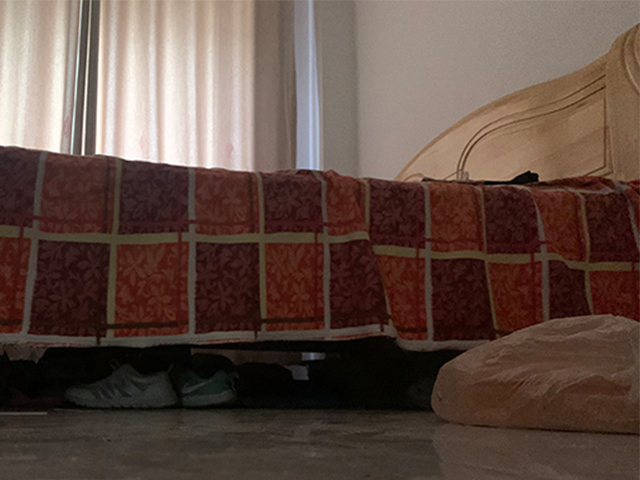bed: (1, 24, 640, 356)
curtain: (99, 2, 298, 167)
